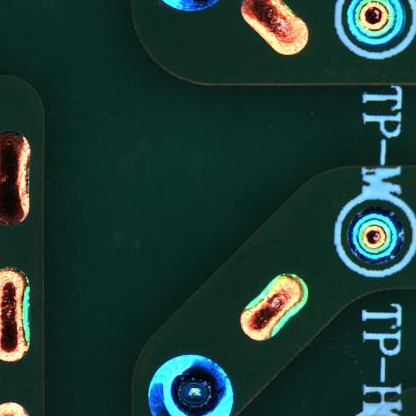spot: (342, 206, 408, 272)
